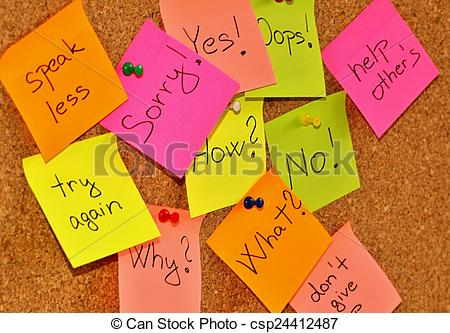stickynote: (92, 18, 241, 181), (1, 1, 128, 162), (21, 133, 162, 270), (207, 167, 334, 314), (320, 1, 440, 140), (265, 91, 361, 216), (157, 1, 277, 98), (180, 93, 267, 219), (116, 202, 204, 313)
